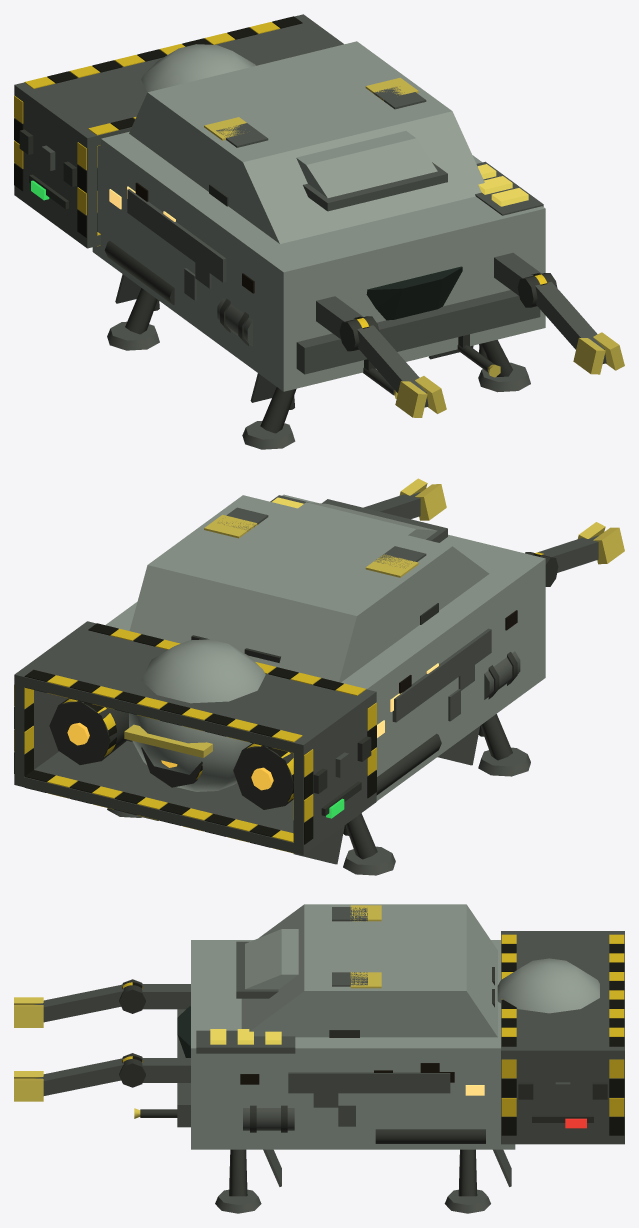
File: tug-m(3).glb
The picture shows the model from 3 angles, top to bottom: view 1: azimuth 30°, elevation 25°; view 2: azimuth 150°, elevation 25°; view 3: azimuth 270°, elevation 25°; orthographic projection. The views are drawn at different scales.
Parts seen in each view (by area): view 1: hullMain, hullUpper, shroudPlateTop, accentStripe, canopyFairing, shroudPlateLeft, armFore (×2), fuelBell, gearFoot (×3), cockpitGlass, hazardFlankL, gearStrut (×3) (+11 smaller); view 2: hullUpper, hullMain, shroudPlateTop, shroudPlateBottom, fuelBell, engineHousing (×3), shroudPlateLeft, hazardFlankL, shroudPlateRight, armFore (×2), gearFoot (×2), gearStrut (×2) (+9 smaller); view 3: hullMain, hullUpper, shroudPlateTop, shroudPlateRight, fuelBell, armFore (×2), hazardFlankR, canopyFairing, armUpper (×2), gearStrut (×2), tugShiphullMainServicePipeR, iffPlinthDorsal (+12 smaller).
Boxes of the visible parts, x1,y1,x2,y2 form: hullMain: [92, 131, 545, 391]; hullUpper: [129, 41, 484, 243]; shroudPlateTop: [14, 14, 343, 148]; accentStripe: [296, 290, 540, 374]; canopyFairing: [296, 131, 437, 197]; shroudPlateLeft: [14, 95, 96, 238]; armFore (×2): [357, 281, 606, 407]; fuelBell: [141, 44, 255, 91]; gearFoot (×3): [107, 321, 530, 449]; cockpitGlass: [366, 266, 462, 320]; hazardFlankL: [127, 189, 226, 282]; gearStrut (×3): [125, 288, 512, 433]; hullUpper: [129, 495, 489, 682]; hullMain: [105, 494, 545, 800]; shroudPlateTop: [14, 621, 376, 755]; shroudPlateBottom: [14, 741, 376, 855]; fuelBell: [129, 639, 265, 791]; engineHousing (×3): [49, 698, 293, 809]; shroudPlateLeft: [294, 702, 376, 845]; hazardFlankL: [392, 628, 491, 722]; shroudPlateRight: [14, 685, 67, 776]; armFore (×2): [363, 492, 598, 572]; gearFoot (×2): [343, 747, 530, 875]; gearStrut (×2): [345, 714, 512, 859]; hullMain: [191, 940, 515, 1149]; hullUpper: [241, 904, 497, 1037]; shroudPlateTop: [501, 931, 624, 1059]; shroudPlateRight: [501, 1059, 624, 1135]; fuelBell: [497, 958, 599, 1013]; armFore (×2): [34, 984, 123, 1095]; hazardFlankR: [288, 1072, 450, 1093]; canopyFairing: [245, 929, 298, 989]; armUpper (×2): [142, 984, 190, 1082]; gearStrut (×2): [229, 1149, 477, 1196]; tugShiphullMainServicePipeR: [375, 1129, 485, 1143]; iffPlinthDorsal: [196, 1030, 295, 1053].
Bounding box in the file's own units: 2.18 × 1.71 × 4.52.
